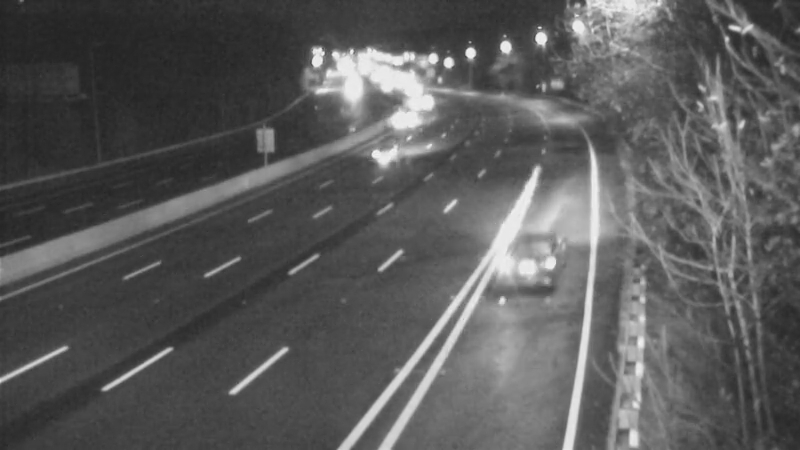vehicle: (342, 115, 422, 195), (485, 222, 565, 302), (388, 68, 438, 118), (397, 81, 447, 131), (385, 96, 435, 146)
